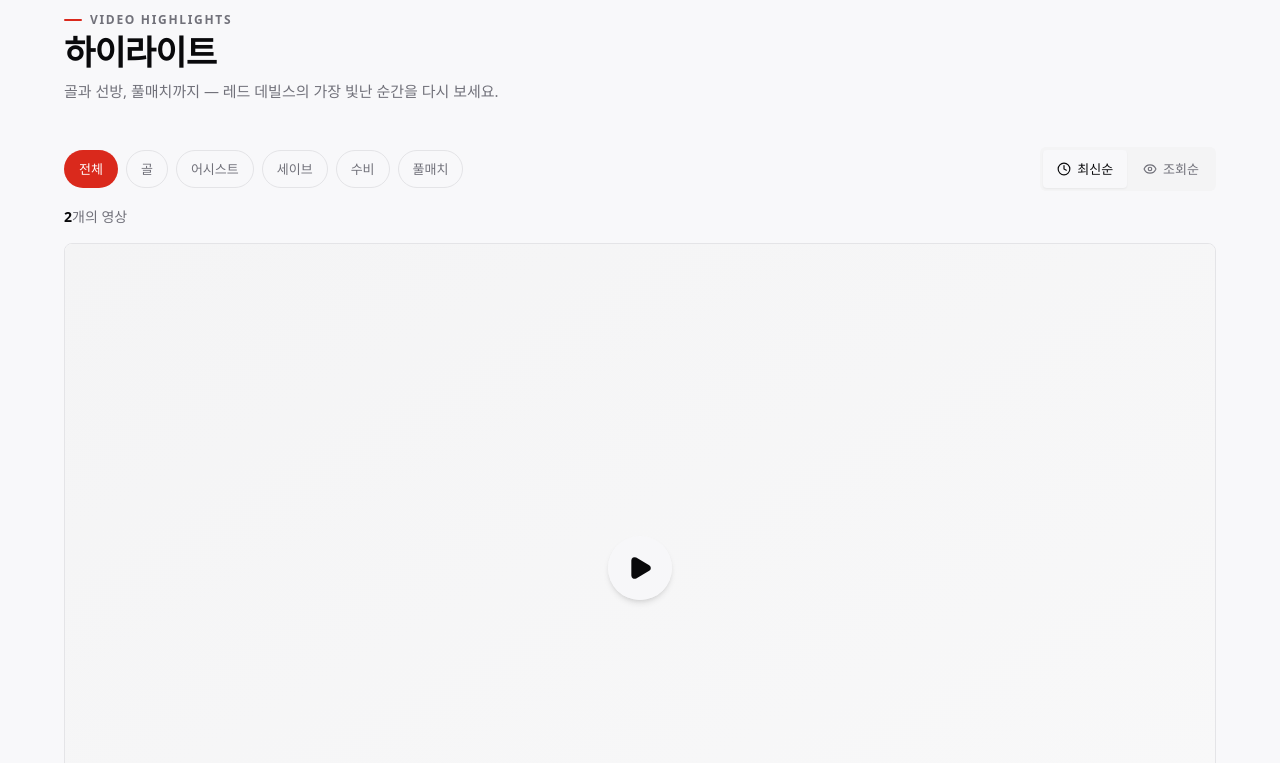
it: HighlightsPage › 결과가 없는 카테고리를 선택하면 빈 상태(StateBox)가 렌더된다
What coordinates should you click on to do the following:
click the radio button labelled "어시스트"
I would click on:
 (215, 169)
Its box is x1=176 y1=150 x2=254 y2=188.
(page scrolled)
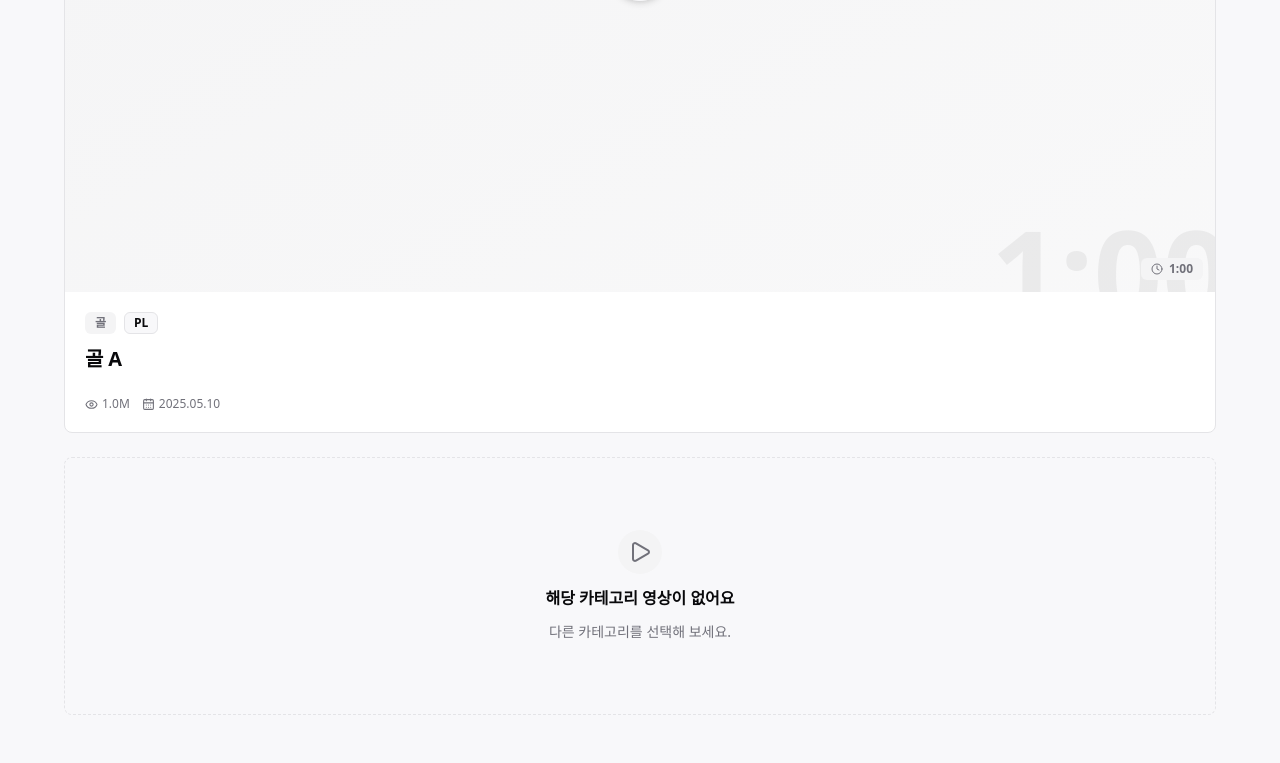
Check: the heading "해당 카테고리 영상이 없어요" is shown, box x1=545 y1=586 x2=734 y2=610
